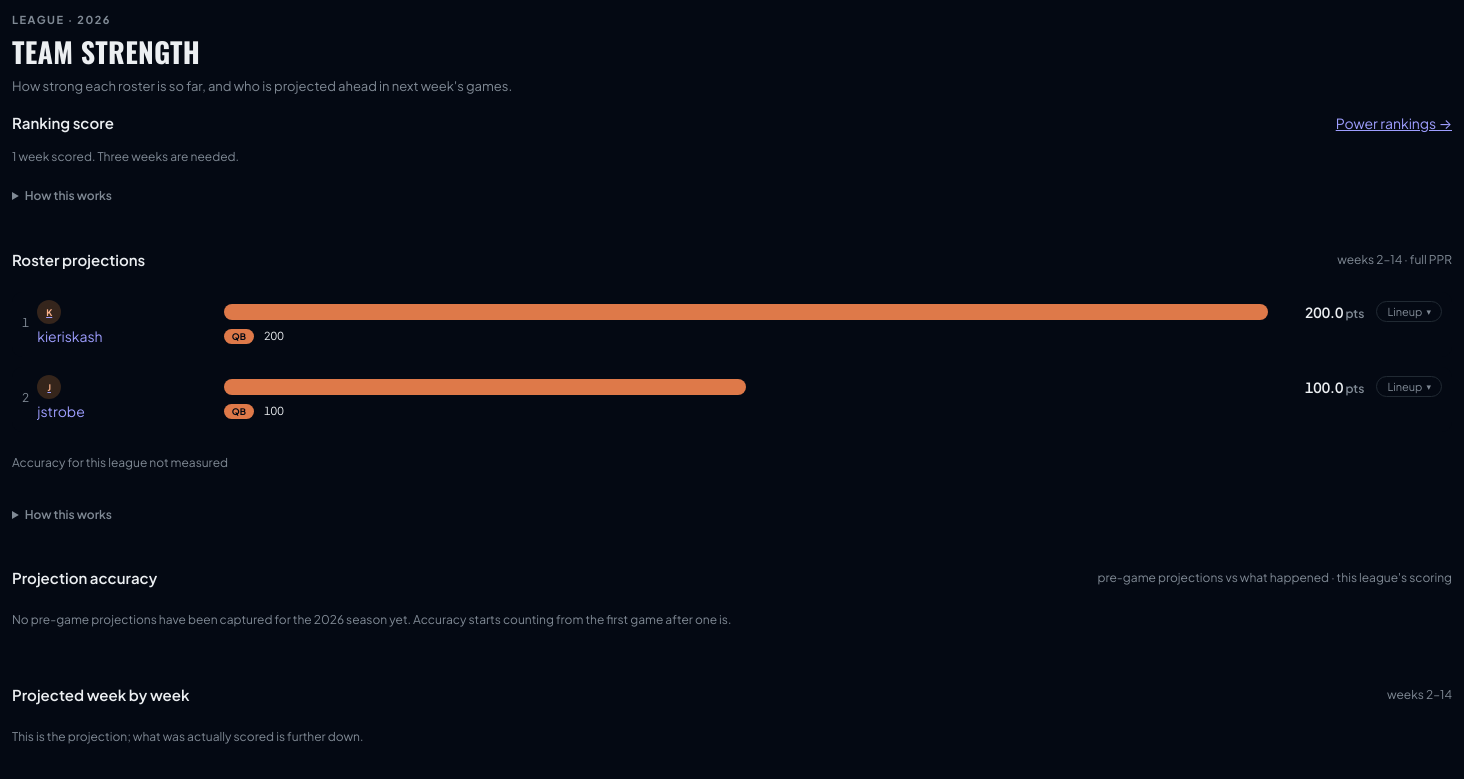
Test case: LeagueAnalysis › shortens the long injury words but keeps the word itself reachable
The image size is (1464, 779).
Click the 1st button "Lineup ▾": (1409, 312) [1376,301,1442,322]
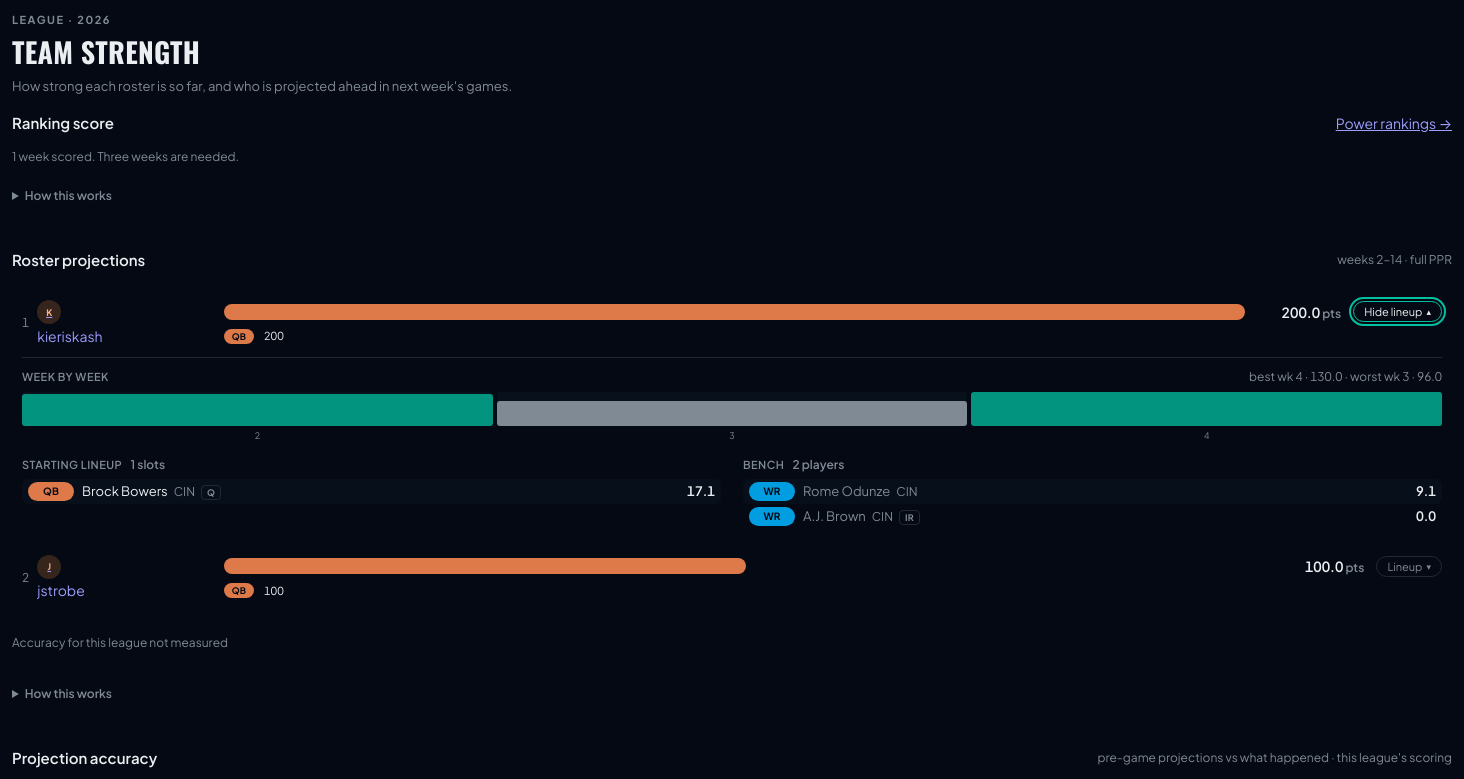
Expected: the text titled "Questionable" is shown, [207,487,215,498]
